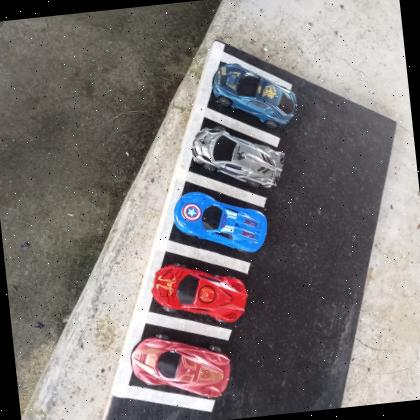Car: (126, 328, 232, 406), (146, 257, 250, 330), (189, 120, 289, 194), (172, 184, 270, 259), (208, 56, 299, 132)
